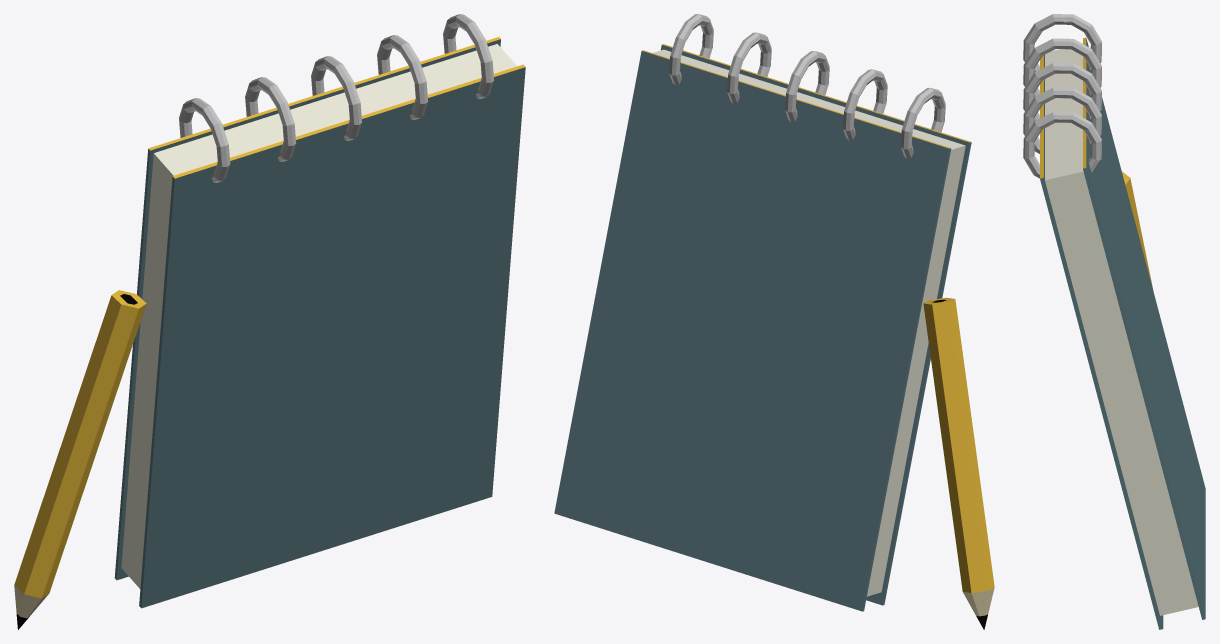
Rendered from notebook.glb.
The picture shows the model from 3 angles, left to right: view 1: azimuth 30°, elevation 25°; view 2: azimuth 150°, elevation 25°; view 3: azimuth 270°, elevation 25°; orthographic projection. The views are drawn at different scales.
Visible parts, largest first — view 1: Cube.001; view 2: Cube.001; view 3: Cube.001.
Boxes of the visible parts, bbox=[...] form: Cube.001: bbox=[14, 14, 525, 629]; Cube.001: bbox=[554, 14, 994, 629]; Cube.001: bbox=[1023, 14, 1205, 629].
Bounding box in the file's own units: 0.5885 × 0.6699 × 0.2188.
